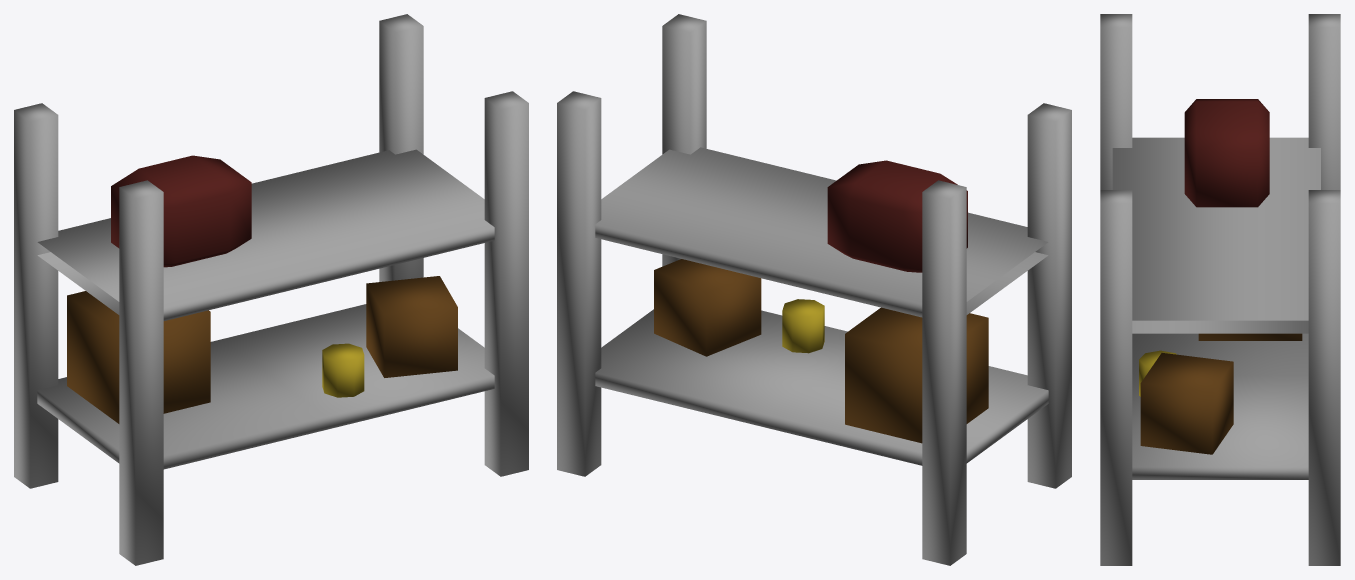
The model's file is Shelving.fbx.
3 renders of one model, left to right at view 1: azimuth 30°, elevation 25°; view 2: azimuth 150°, elevation 25°; view 3: azimuth 270°, elevation 25°, orthographic.
Parts seen in each view (by area): view 1: Shelf; view 2: Shelf; view 3: Shelf.
Part boxes in pixels (x1,y1,x2,y2): Shelf: (14, 14, 528, 565); Shelf: (557, 14, 1071, 565); Shelf: (1100, 14, 1340, 565).
Bounding box in the file's own units: 431 × 384 × 231.
